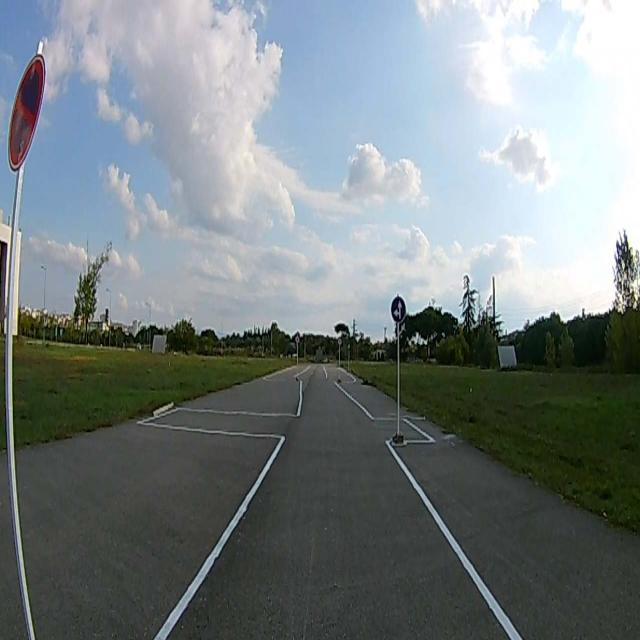ilerisol: (390, 297, 408, 323)
parkyasak: (7, 55, 45, 165)
